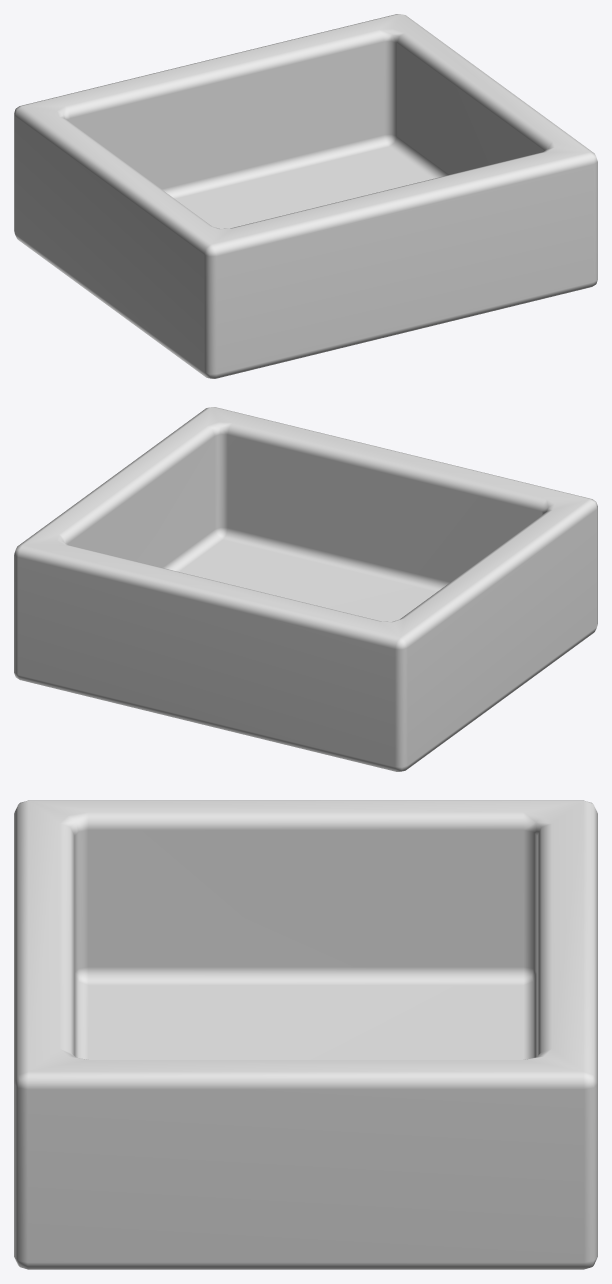
The model's file is SM_sink_basin.glb.
3 renders of one model, top to bottom at view 1: azimuth 30°, elevation 25°; view 2: azimuth 150°, elevation 25°; view 3: azimuth 270°, elevation 25°, orthographic. The views are drawn at different scales.
Visible parts, largest first — view 1: SM_sink_basin; view 2: SM_sink_basin; view 3: SM_sink_basin.
Part boxes in pixels (x1=…): SM_sink_basin: x1=14, y1=14, x2=597, y2=378; SM_sink_basin: x1=14, y1=407, x2=597, y2=771; SM_sink_basin: x1=14, y1=800, x2=597, y2=1269.
Size of the model in its own units: 0.4832 by 0.1581 by 0.4231.
Materials: 1 (1 with a texture image).
